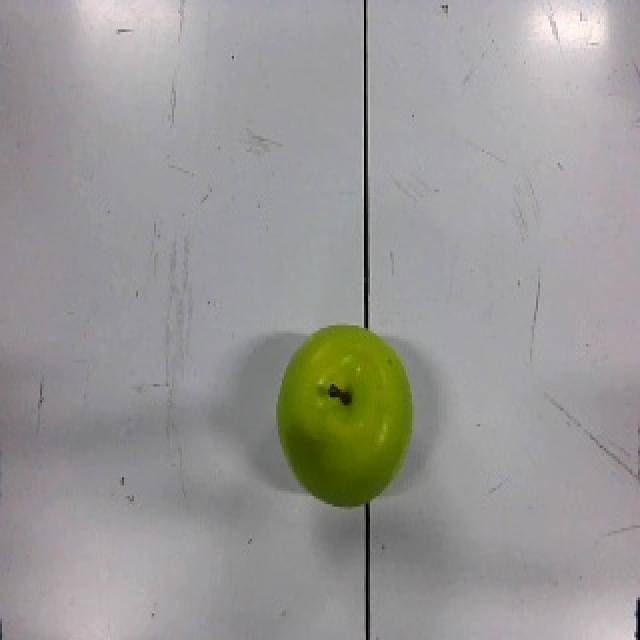apple: (276, 322, 414, 508)
